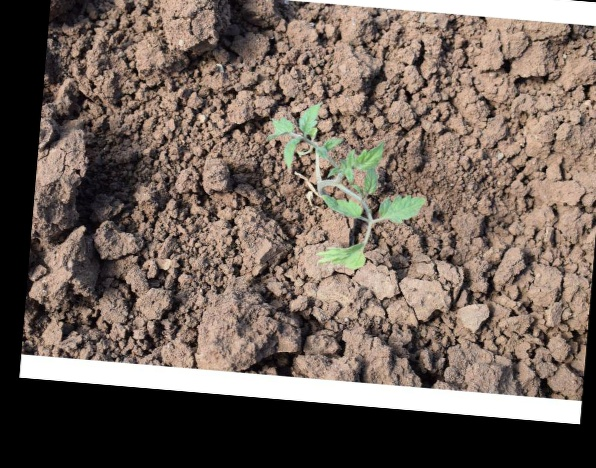tomato: (261, 102, 425, 264)
